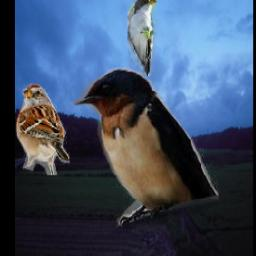Cuckoo: (128, 0, 157, 77)
Sparrow: (15, 84, 70, 176)
Swallow: (74, 67, 219, 229)
